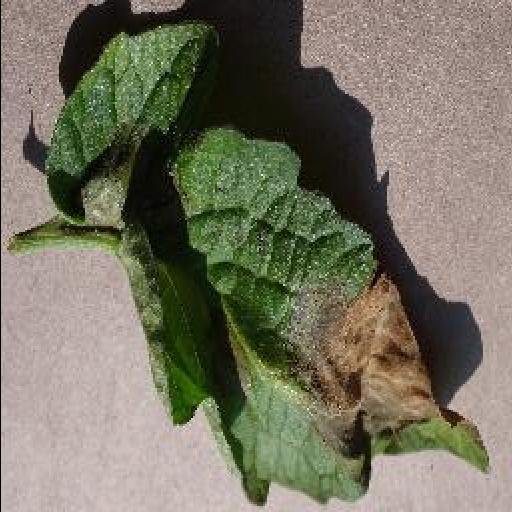disease_tomato: (43, 18, 493, 510)
